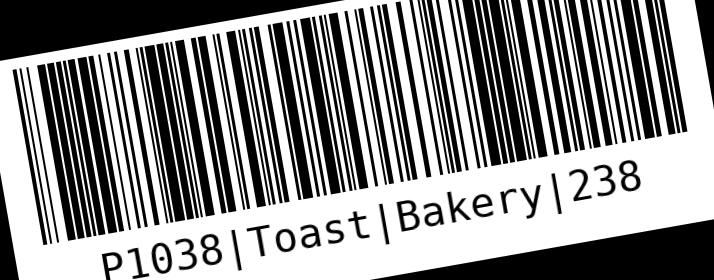milk: (6, 0, 711, 279)
